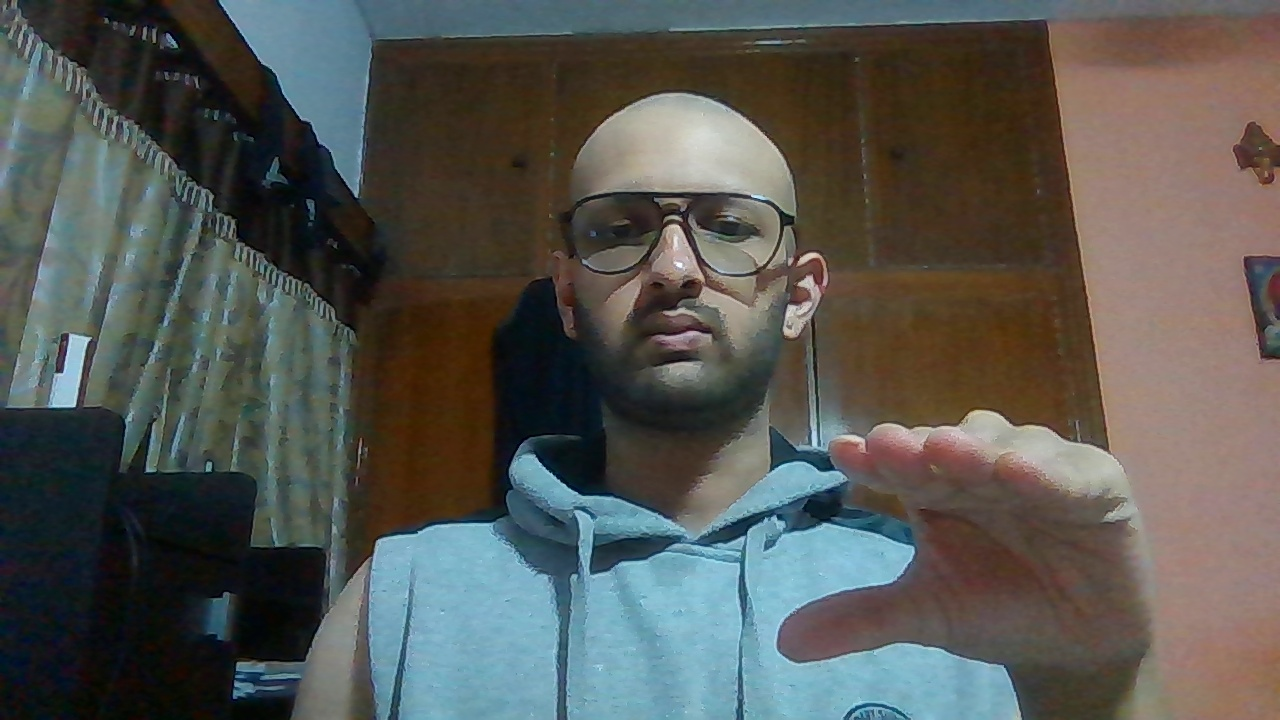No: (771, 407, 1181, 673)
